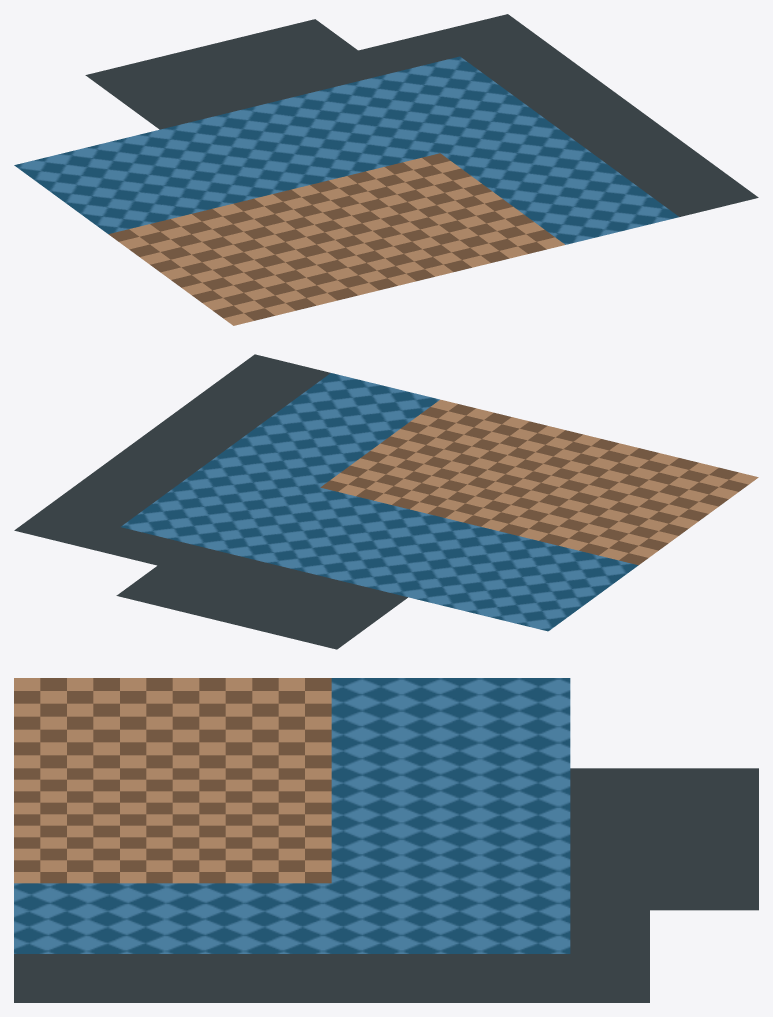
File: Floor.fbx
The picture shows the model from 3 angles, top to bottom: view 1: azimuth 30°, elevation 25°; view 2: azimuth 150°, elevation 25°; view 3: azimuth 270°, elevation 25°; orthographic projection. The views are drawn at different scales.
Parts seen in each view (by area): view 1: Plane; view 2: Plane; view 3: Plane.
Part boxes in pixels (bbox=[...]): Plane: bbox=[14, 14, 758, 325]; Plane: bbox=[14, 354, 758, 649]; Plane: bbox=[14, 678, 758, 1002].
Bounding box in the file's own units: 5924 × 0.000935 × 5742.
1 material, 1 textured.
